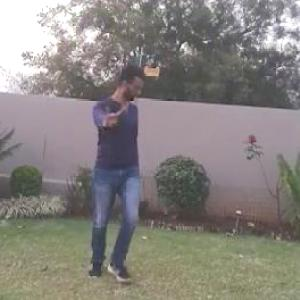takeoff-hand: (102, 100, 128, 127)
